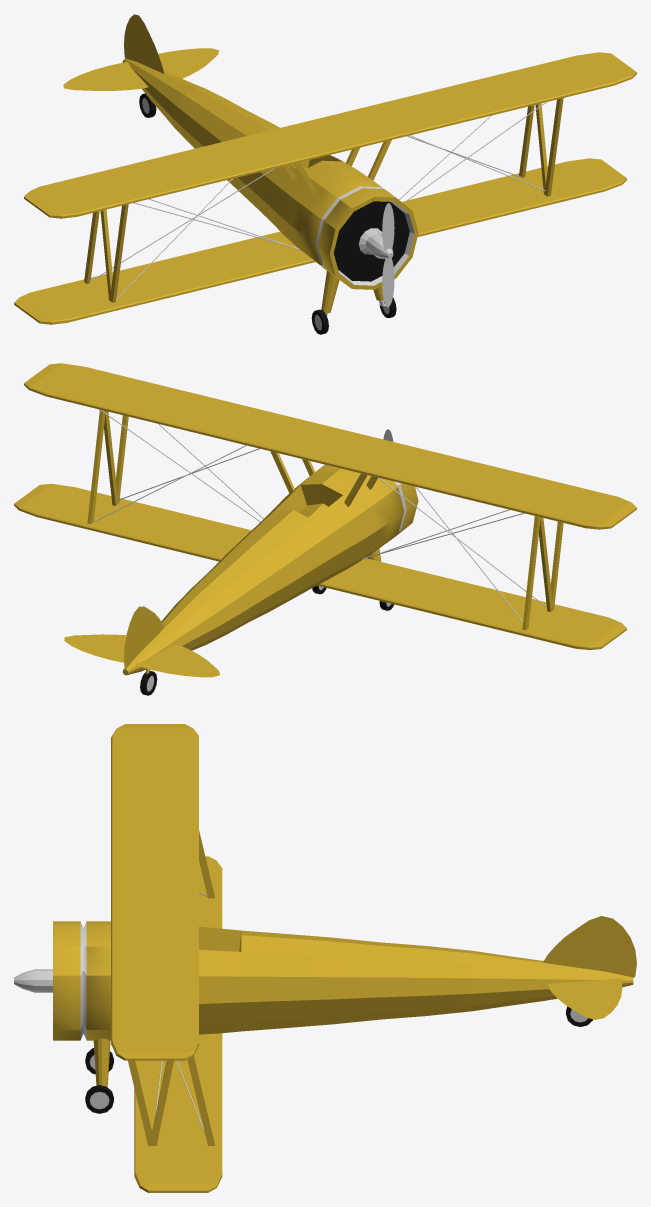
Rendered from testPlane.fbx.
The picture shows the model from 3 angles, top to bottom: view 1: azimuth 30°, elevation 25°; view 2: azimuth 150°, elevation 25°; view 3: azimuth 270°, elevation 25°; orthographic projection. The views are drawn at different scales.
Parts seen in each view (by area): view 1: top1, planeCenter, top2, tail2, tail, tail1, cable9, support10, support5, support7, support9, front2 (+4 smaller); view 2: top1, planeCenter, top2, tail2, tail, tail1, cable9, support6, support8, support9, support7, support5 (+1 smaller); view 3: planeCenter, top1, top2, tail, tail1, support8, wheelConnector, support9, wheel, support10.
Boxes of the visible parts, x1,y1,x2,y2 form: top1: (24,52,636,218); planeCenter: (122,58,418,289); top2: (14,158,626,324); tail2: (63,62,148,90); tail: (124,14,164,73); tail1: (130,48,218,78); cable9: (89,168,300,299); support10: (544,98,563,196); support5: (110,204,128,302); support7: (100,209,112,300); support9: (535,103,547,194); front2: (382,258,394,307); top1: (24,363,636,529); planeCenter: (122,464,418,675); top2: (14,483,626,649); tail2: (134,644,219,677); tail: (124,606,163,669); tail1: (64,634,126,662); cable9: (361,477,546,622); support6: (522,516,540,630); support8: (87,410,105,524); support9: (104,411,118,505); support7: (539,517,552,611); support5: (550,521,563,611); planeCenter: (14,921,633,1040); top1: (111,724,198,1060); top2: (134,856,222,1192); tail: (543,916,636,977); tail1: (548,977,622,1019); support8: (187,1056,214,1145); wheelConnector: (93,1038,110,1086); support9: (149,1060,173,1145); wheel: (85,1085,113,1113); support10: (128,1060,154,1145).
Size of the model in its own units: 12.26 by 3.48 by 9.65.
